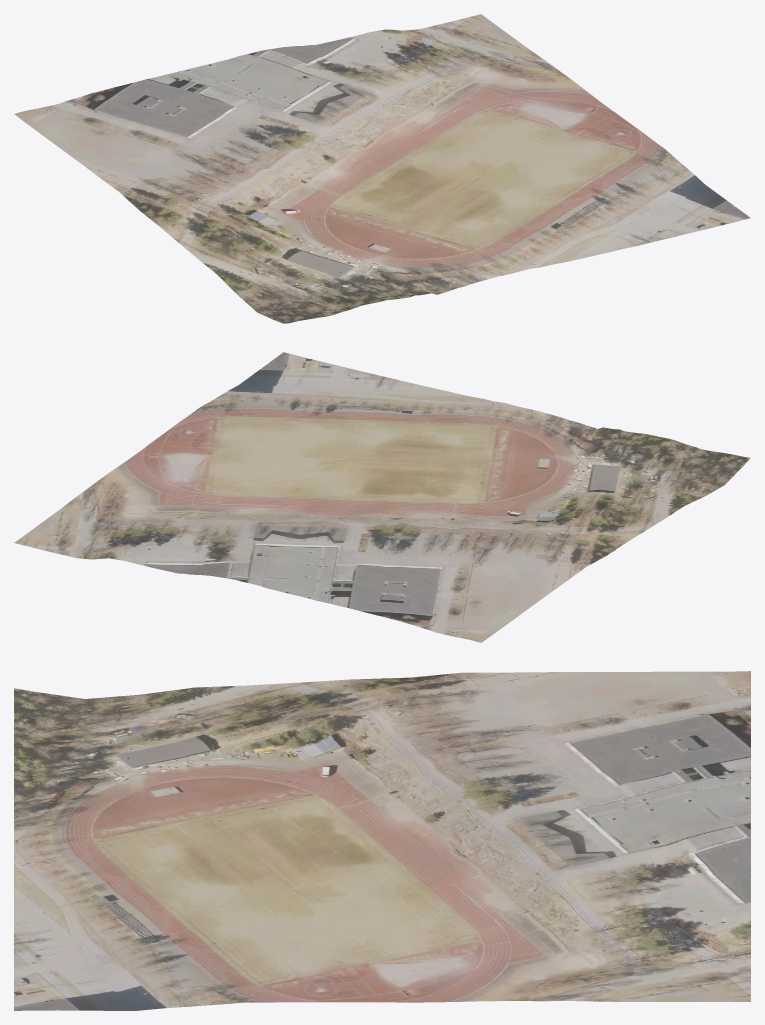
The model's file is CM_Terrain_24491278_6815493.fbx.
3 views of the same model, one above another, from view 1: azimuth 30°, elevation 25°; view 2: azimuth 150°, elevation 25°; view 3: azimuth 270°, elevation 25° (orthographic). The views are drawn at different scales.
Parts seen in each view (by area): view 1: CM_Terrain_24491278_6815493_LOD0; view 2: CM_Terrain_24491278_6815493_LOD0; view 3: CM_Terrain_24491278_6815493_LOD0.
Boxes of the visible parts, box(x1,y1,x2,y2) form: CM_Terrain_24491278_6815493_LOD0: box(14, 14, 750, 323); CM_Terrain_24491278_6815493_LOD0: box(14, 352, 750, 642); CM_Terrain_24491278_6815493_LOD0: box(14, 671, 750, 1010).
Size of what is drawn, in the model's own units: 205 by 10.11 by 205.
